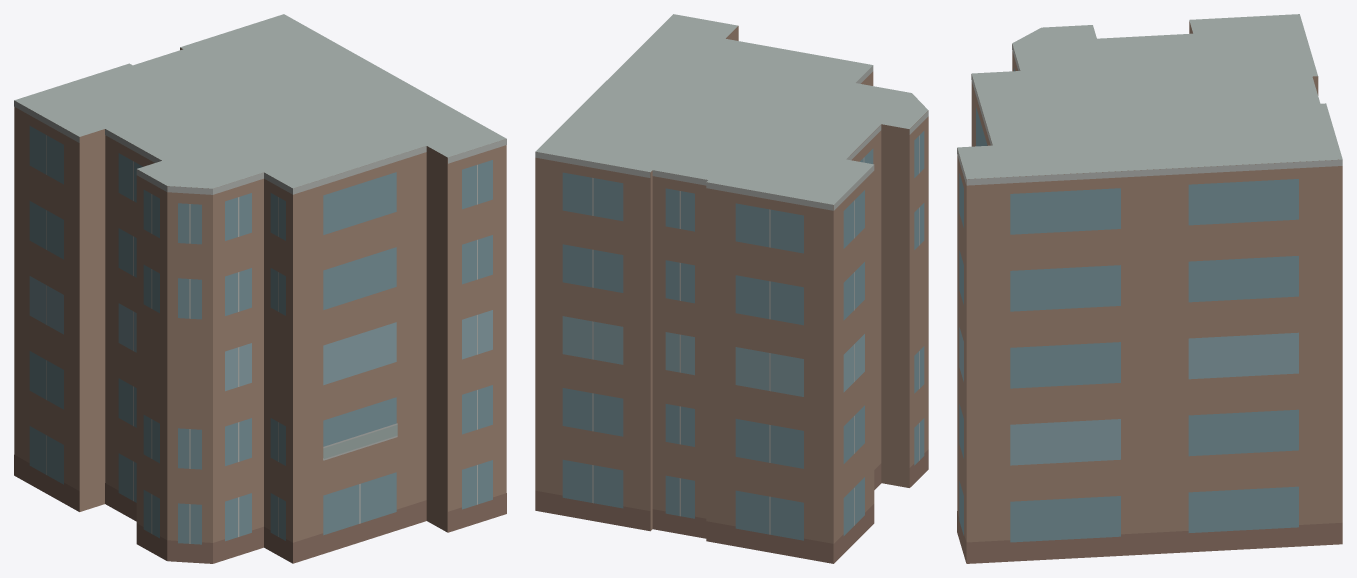
Rendered from survey-upis-32621923.glb.
The picture shows the model from 3 angles, left to right: view 1: azimuth 30°, elevation 25°; view 2: azimuth 150°, elevation 25°; view 3: azimuth 270°, elevation 25°; orthographic projection. The views are drawn at different scales.
Parts seen in each view (by area): view 1: survey-upis-32621923.tmp; view 2: survey-upis-32621923.tmp; view 3: survey-upis-32621923.tmp.
Part boxes in pixels (x1,y1,x2,y2): survey-upis-32621923.tmp: (14, 14, 506, 563); survey-upis-32621923.tmp: (535, 14, 928, 563); survey-upis-32621923.tmp: (957, 14, 1342, 563).
Bounding box in the file's own units: 13.55 × 14.7 × 13.37.
